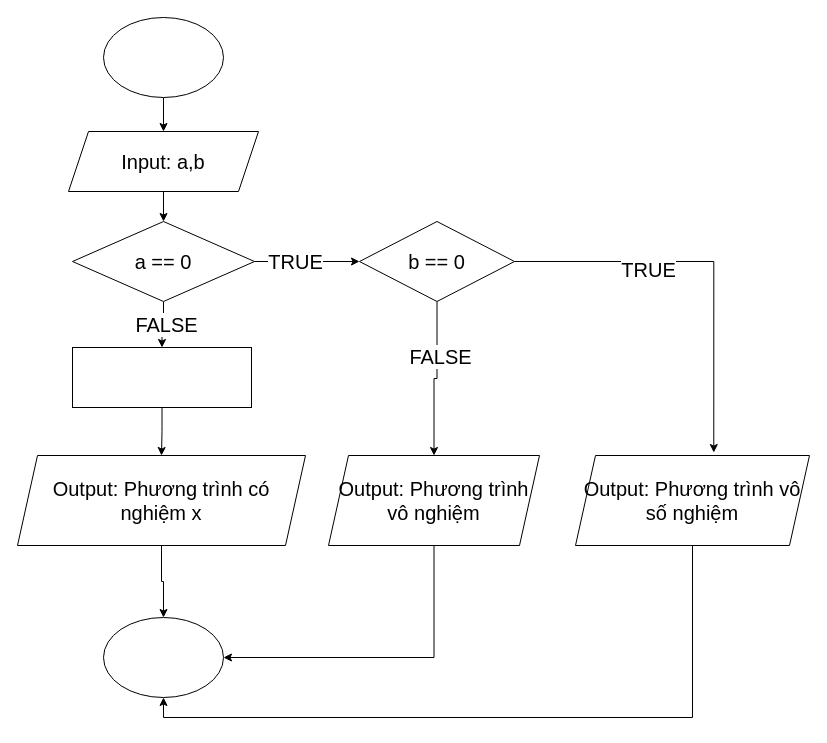
Image size: 827x743. Some labels were removed from this diagram. The box of each missing label's shape, as (x1, y1, x2, y2) in pixels:
Begin: (102, 16, 224, 98)
End: (102, 616, 224, 698)
x = -b/a: (72, 346, 252, 408)
